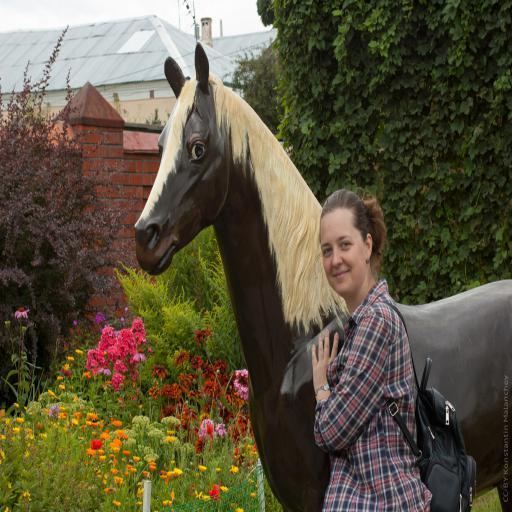horse: (132, 38, 512, 512)
